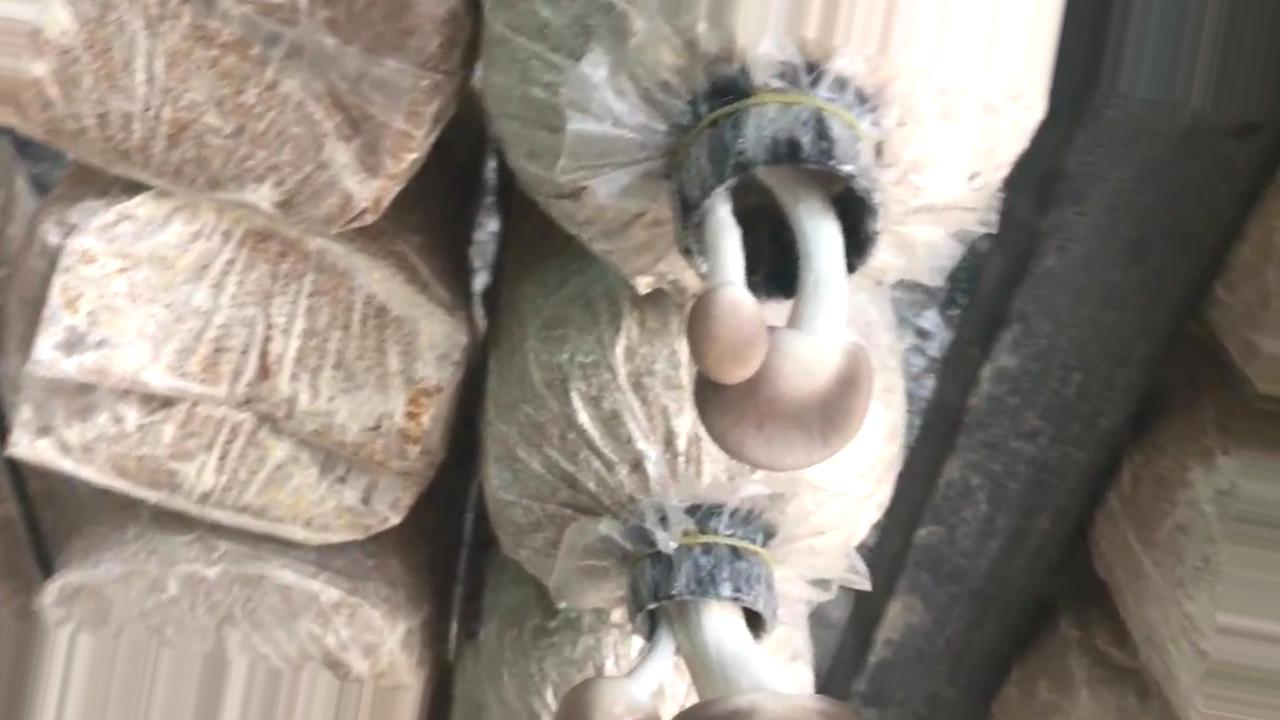nam: (668, 100, 890, 469), (558, 531, 852, 719)
